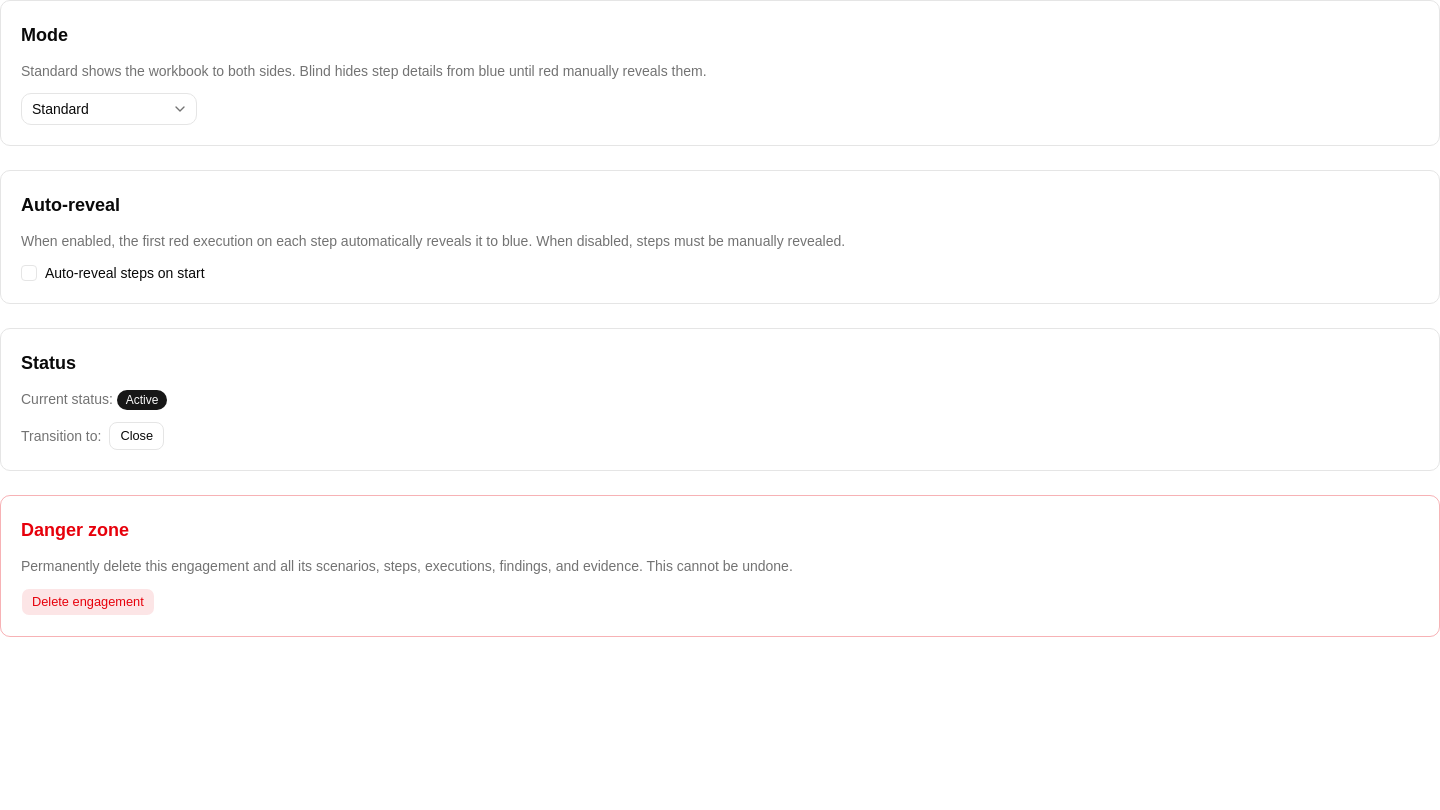
SettingsPage danger zone › a refused delete is reported as an error, not a success
The width and height of the screenshot is (1440, 810).
Click the button "Delete engagement". click: (88, 602)
box: left=21, top=588, right=155, bottom=616
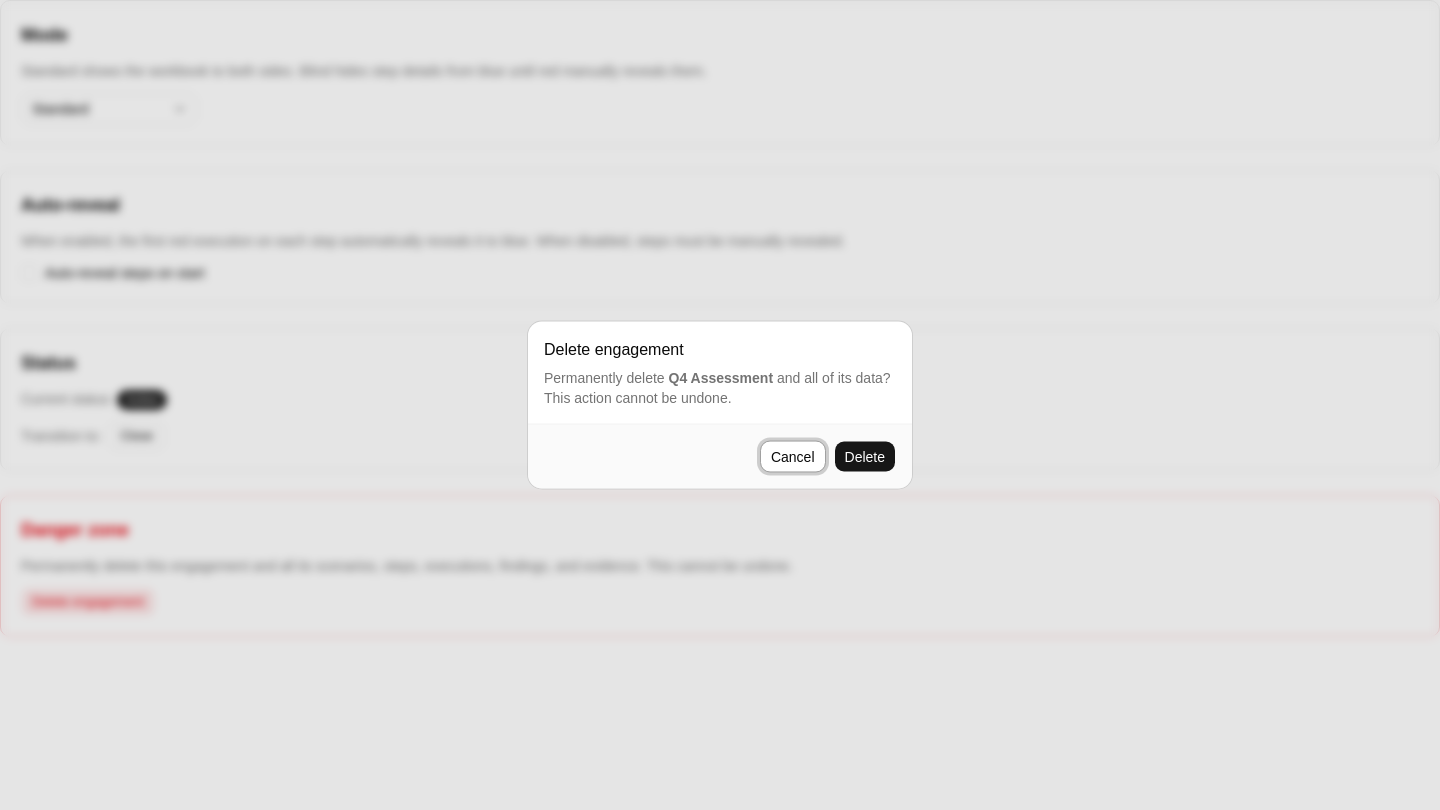
Click the button "Delete". click: (865, 456)
box: left=834, top=440, right=896, bottom=472
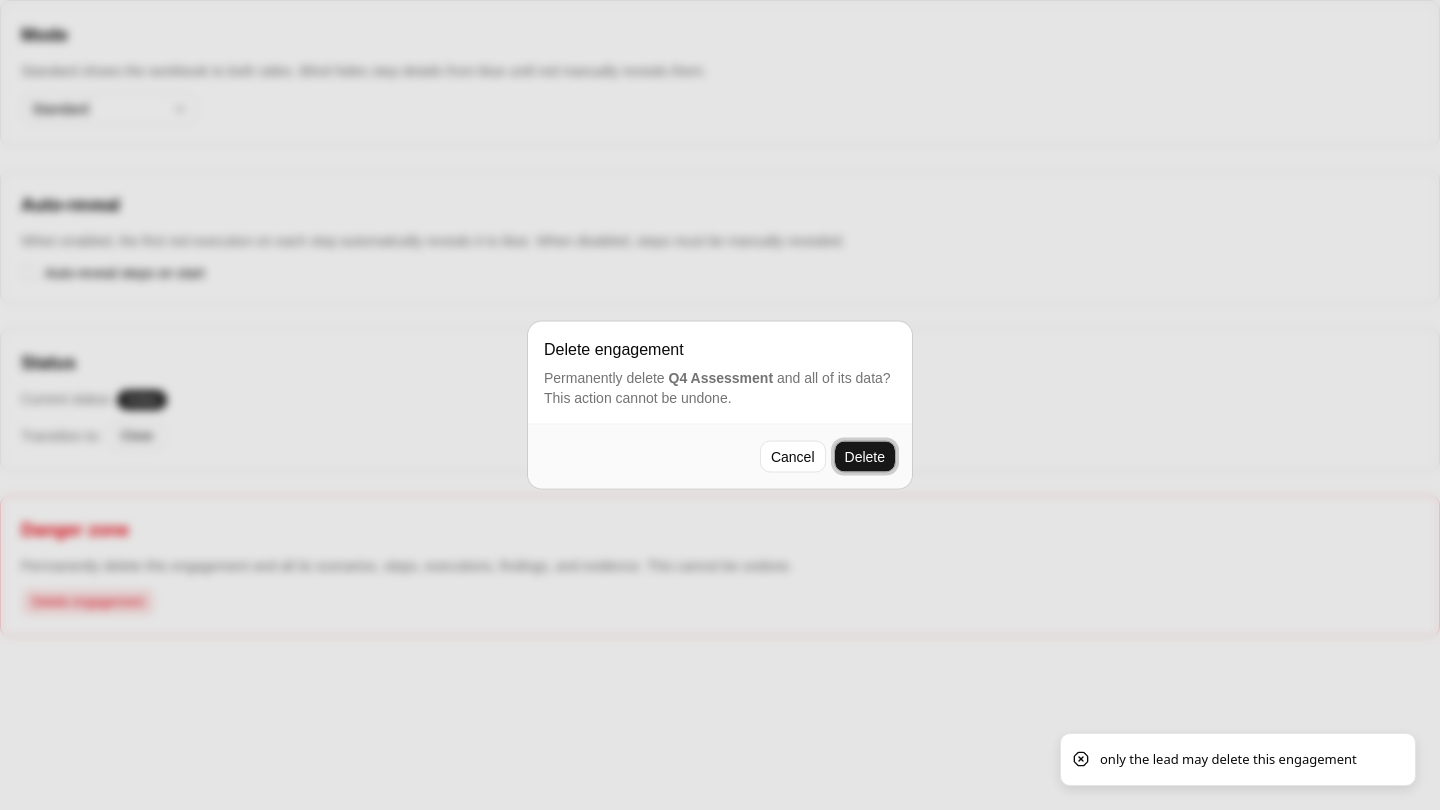
Expected: the text "only the lead may delete this engagement" is shown, left=1100, top=750, right=1357, bottom=769
